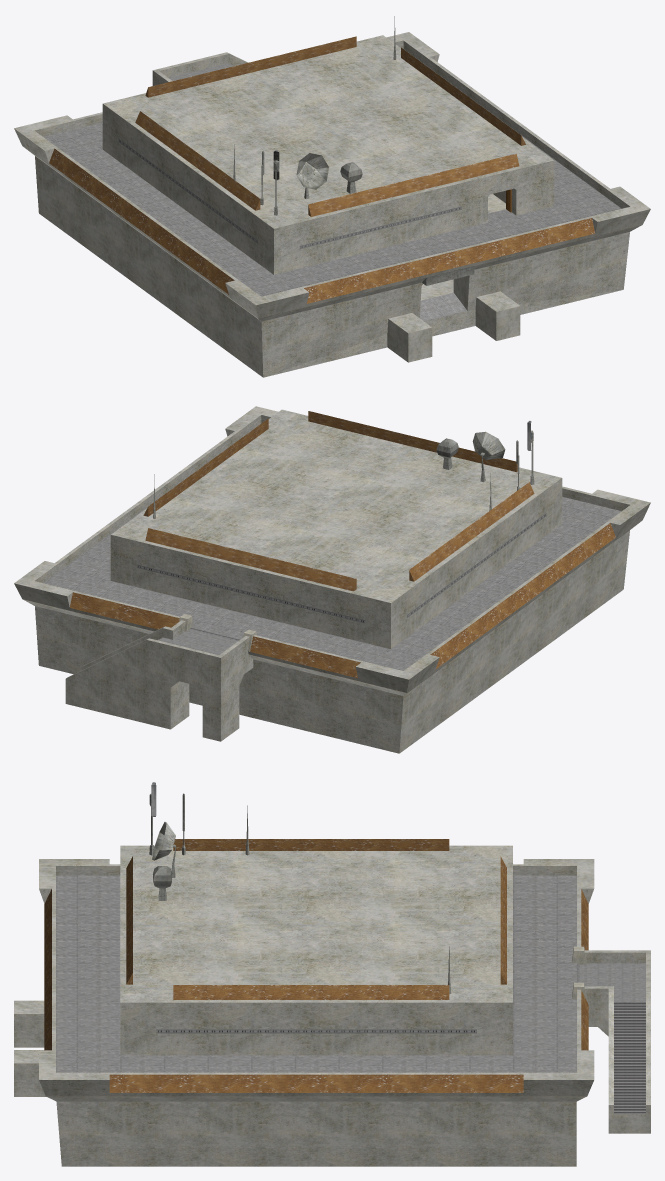
Rendered from mun_all_military_base_police_station_rebl_s01_r0_mesh_l1_r0.fbx.
3 renders of one model, top to bottom at view 1: azimuth 30°, elevation 25°; view 2: azimuth 150°, elevation 25°; view 3: azimuth 270°, elevation 25°, orthographic. The views are drawn at different scales.
Visible parts, largest first — view 1: mesh_node; view 2: mesh_node; view 3: mesh_node.
Part boxes in pixels (x1,y1,x2,y2): mesh_node: (14, 16, 650, 377); mesh_node: (14, 406, 650, 753); mesh_node: (14, 782, 650, 1166).
Bounding box in the file's own units: 49.31 × 22.07 × 60.
